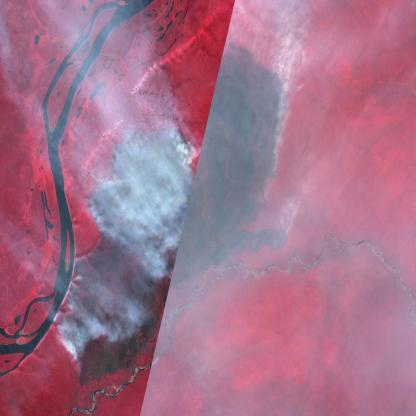fire: (55, 37, 298, 394)
